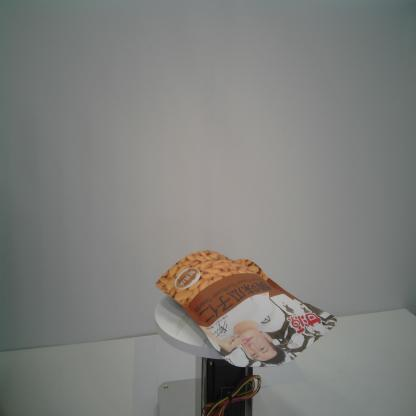Dried Fruit: (155, 249, 338, 368)
